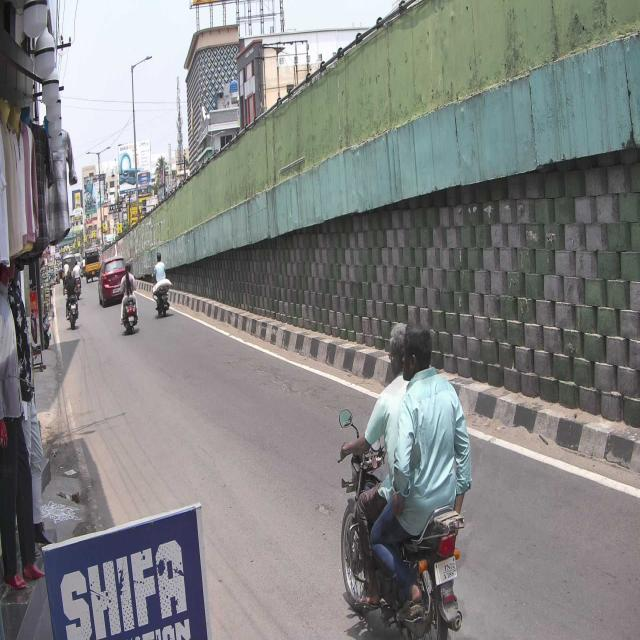double_rider: (338, 318, 474, 640)
